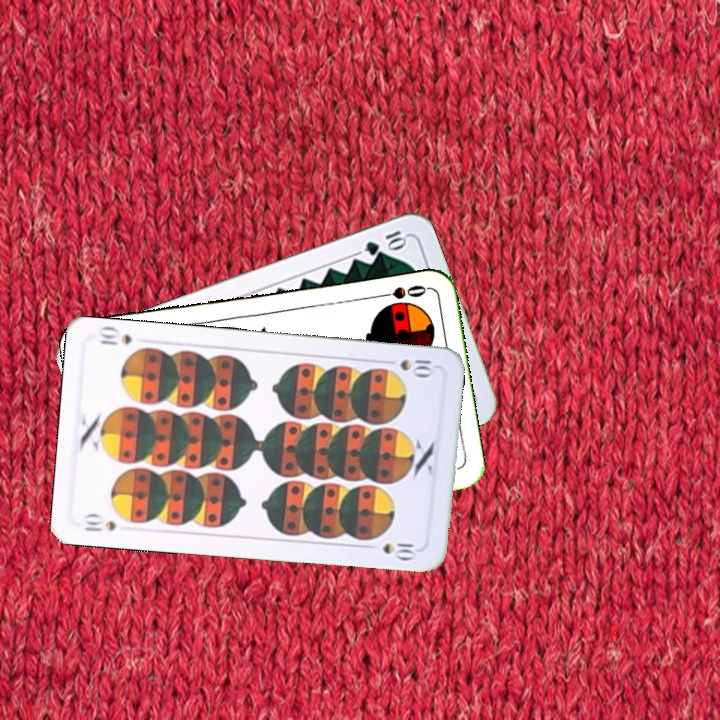G10: (361, 226, 411, 258)
S10: (379, 355, 439, 379), (80, 510, 118, 534)
SO: (370, 281, 429, 302)
